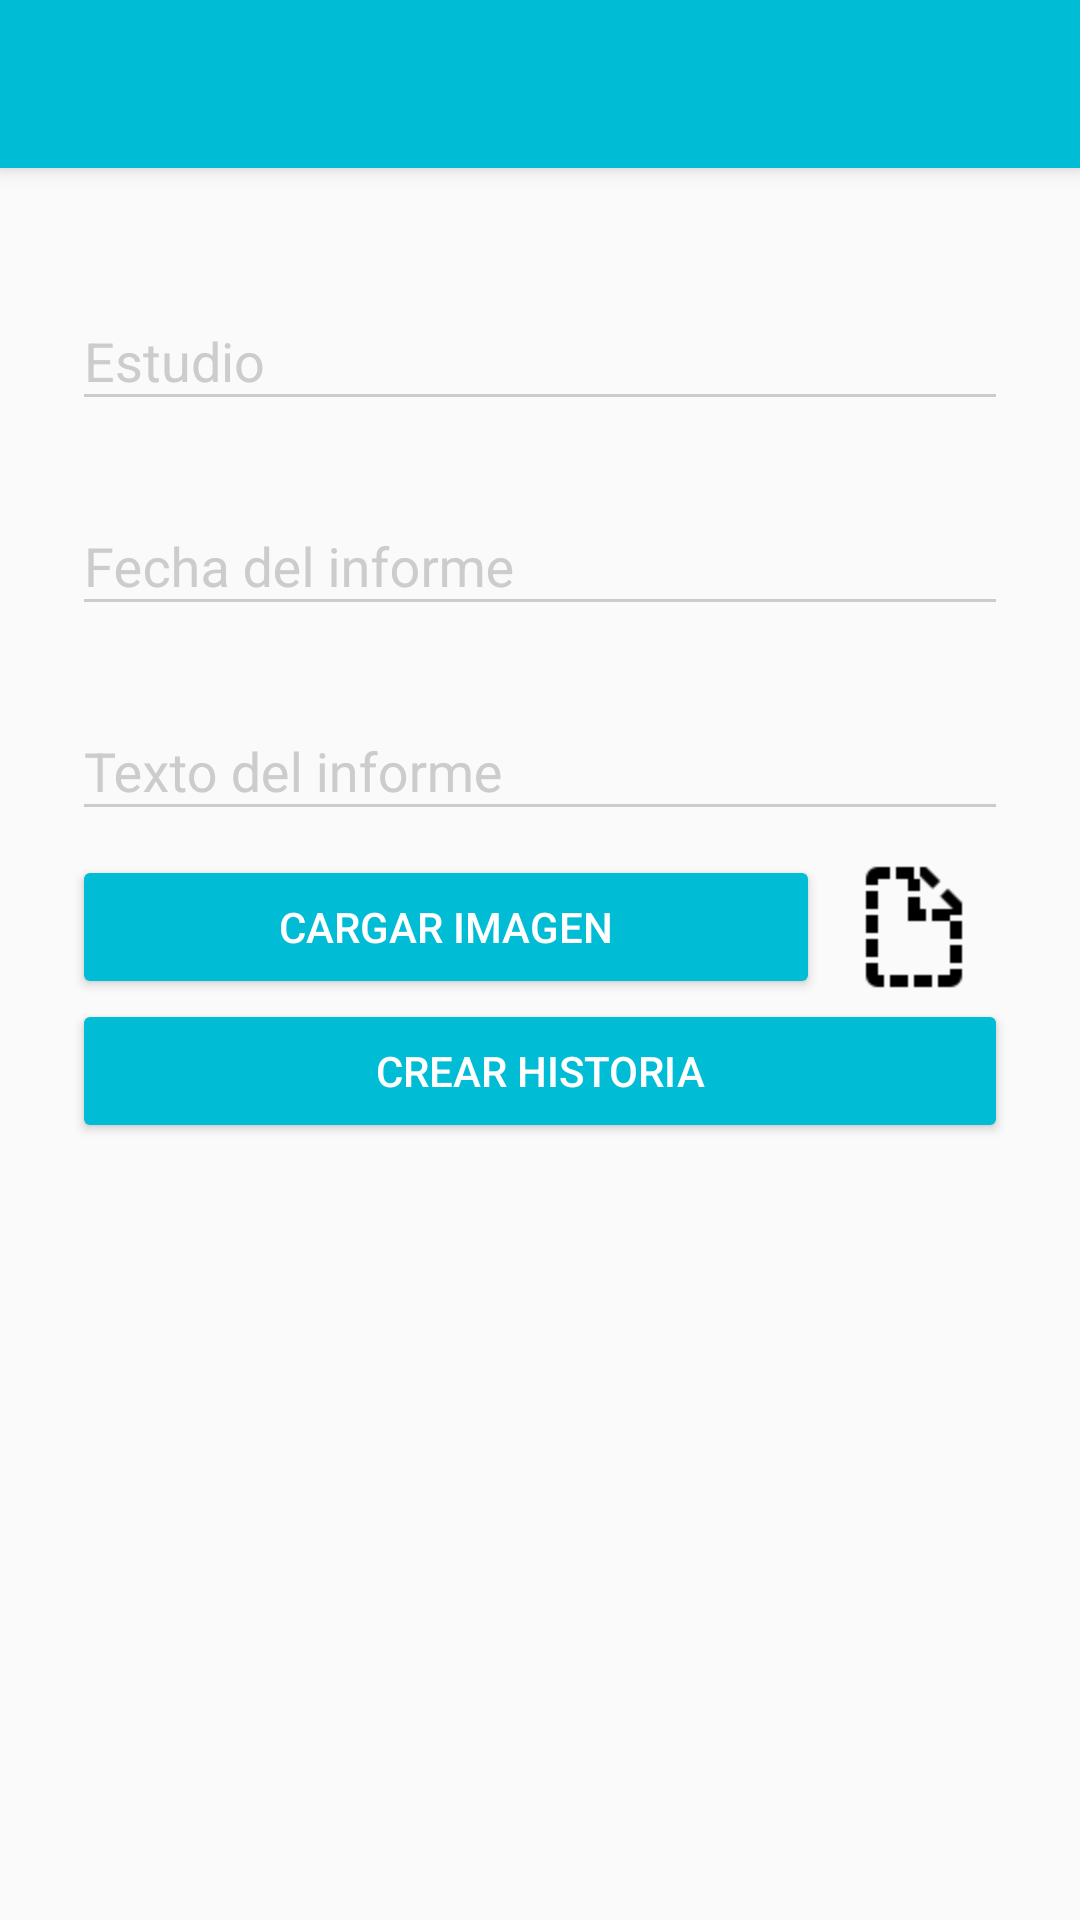

Locate icon controls on the screen. Image size 1080px×1920px, boxes as (x1, y1, x2, y2).
file hidden: (865, 866, 963, 988)
